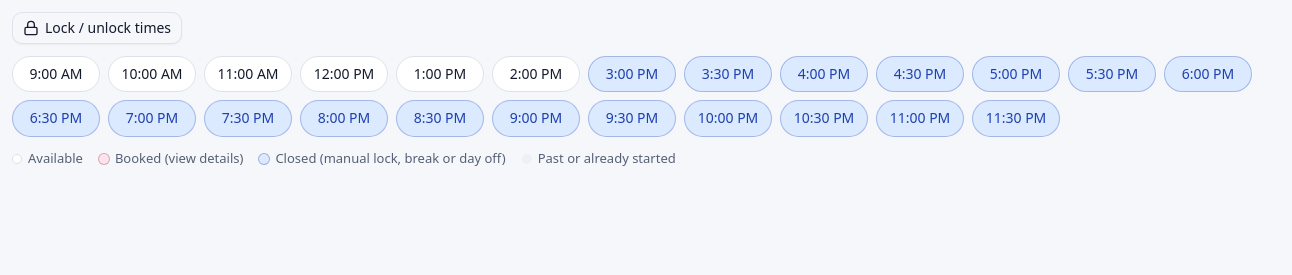
Test: booking time lock controls › asks for the end time after tapping a start and discards it when the start changes
The image size is (1292, 275).
Click the radio button labelled "1:00 PM": coordinates (440, 74) [396,56,484,92]
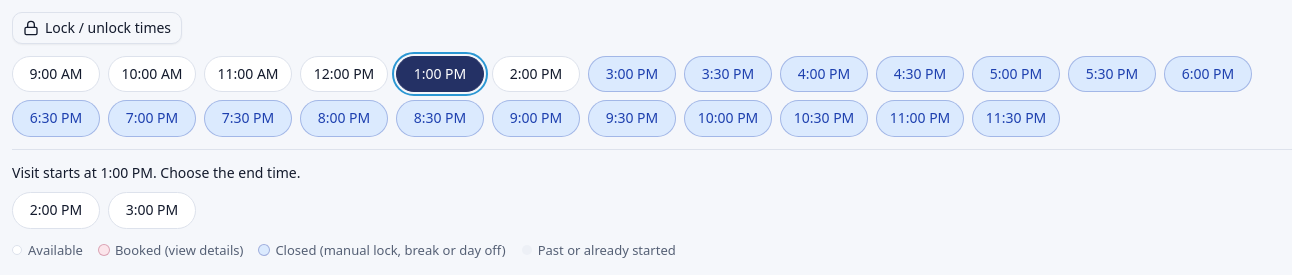
Click the radio button with aria-label "End at 2:00 PM": coordinates (56, 210) [12,192,100,229]
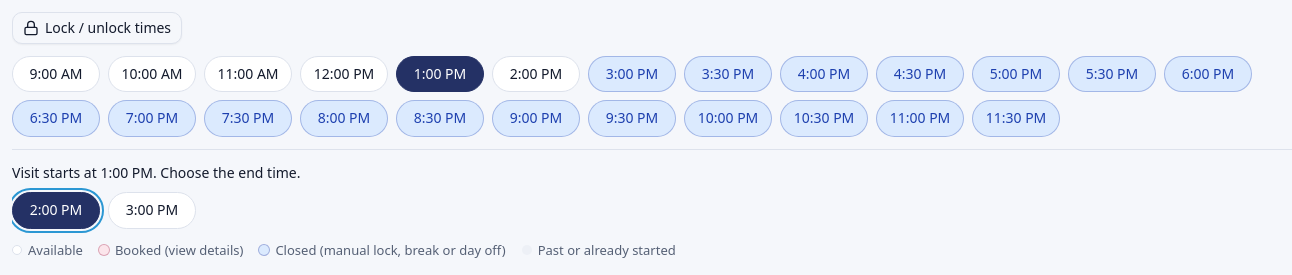
Check: the radio button with aria-label "End at 2:00 PM" has class "bg-primary", box [12,192,100,229]
// Choosing a different start must discard the previous end, not carry it over.
Click the 1st radio button labelled "2:00 PM": coordinates (536, 74) [492,56,580,92]
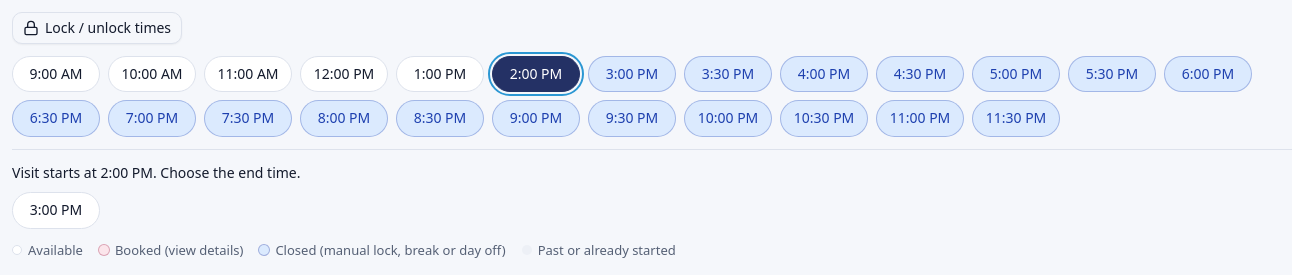
Check: the message shows "Visit starts at 2:00 PM", box [12,163,300,182]
